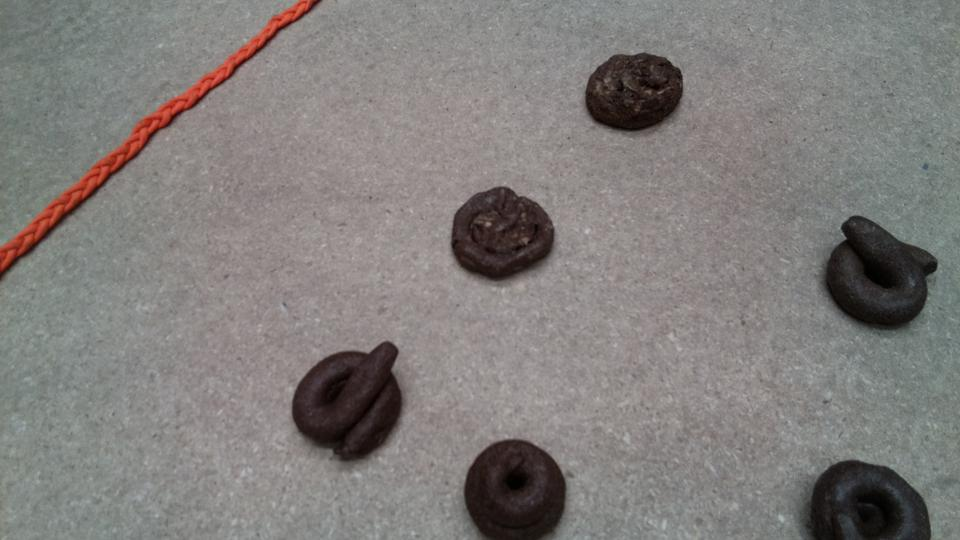poop: (290, 337, 410, 463), (822, 213, 940, 334), (461, 435, 569, 540), (448, 184, 560, 283), (808, 456, 935, 540), (583, 49, 686, 133)
rope: (1, 1, 302, 261)
